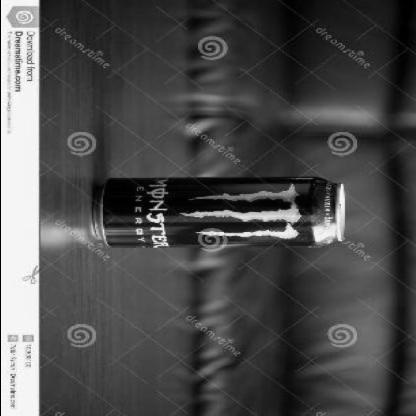alumunium_can: (92, 176, 345, 249)
